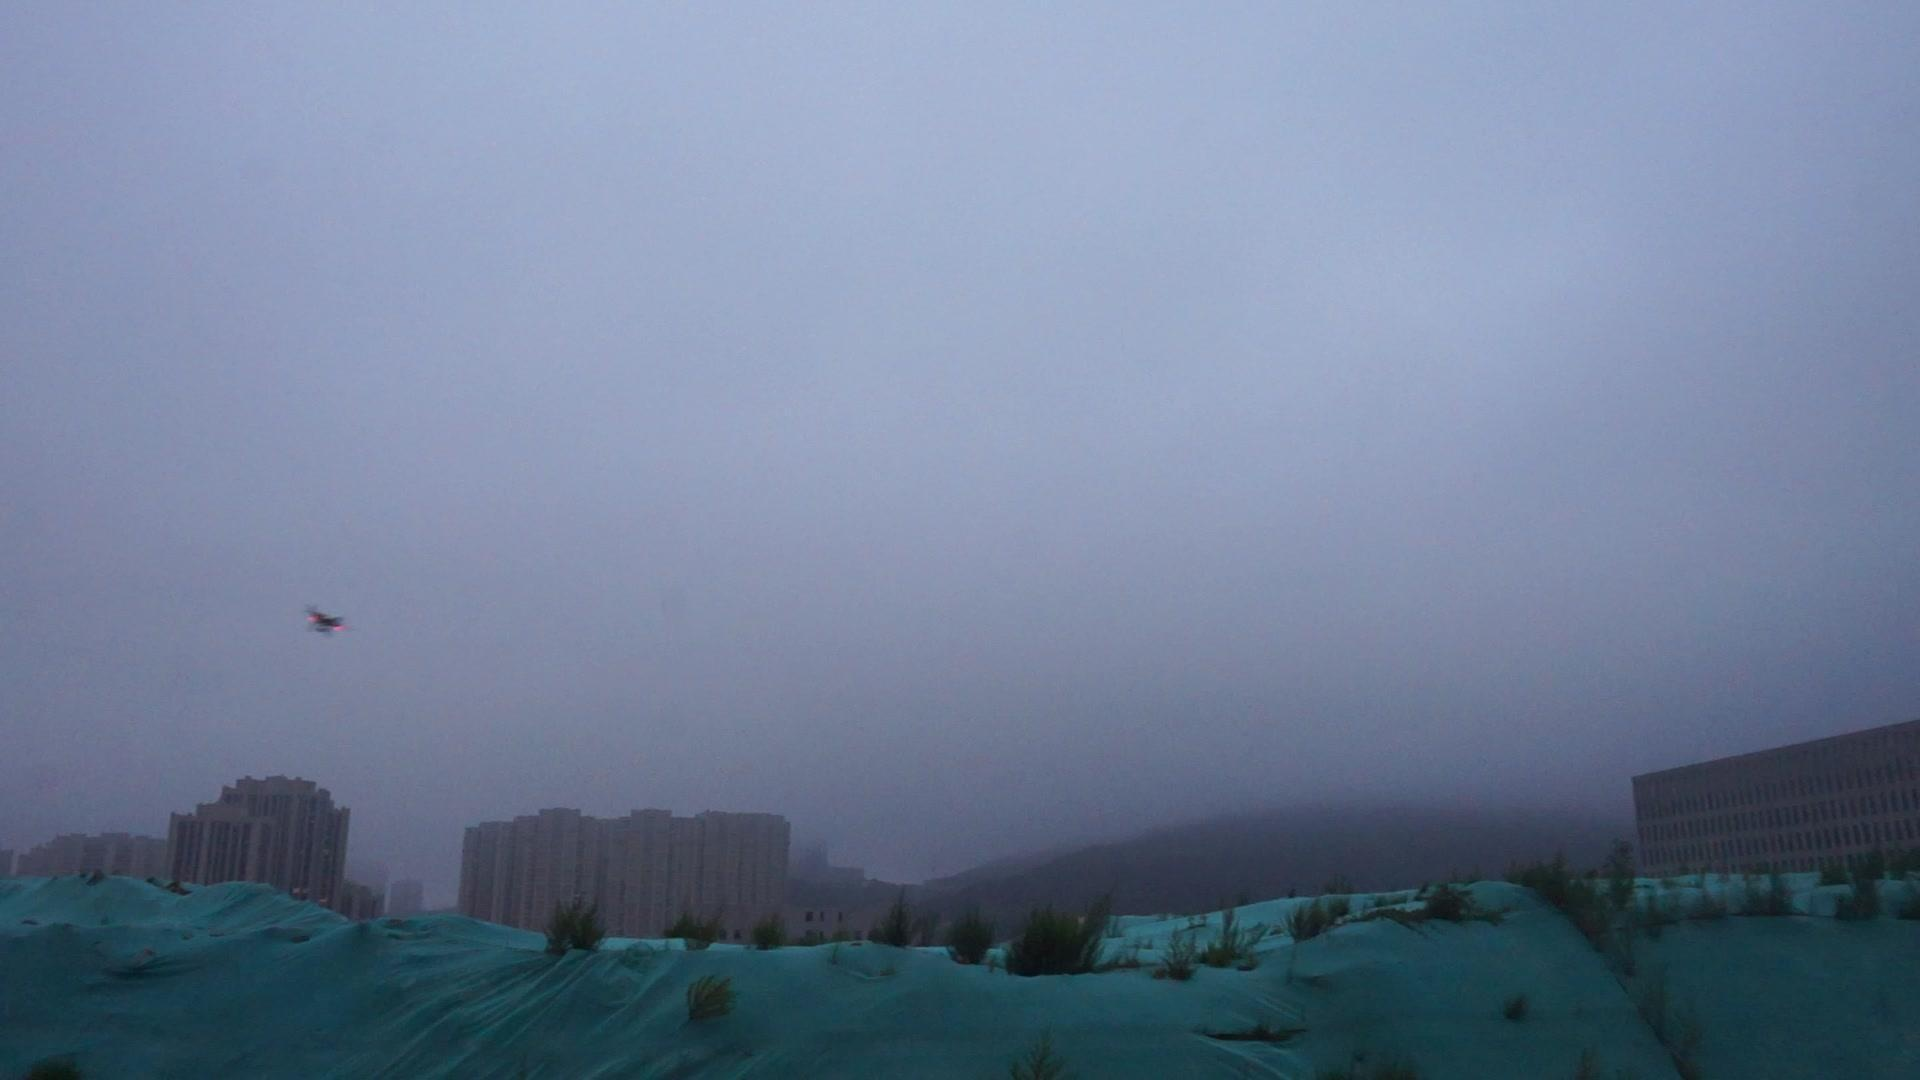UAV: (305, 605, 353, 634)
